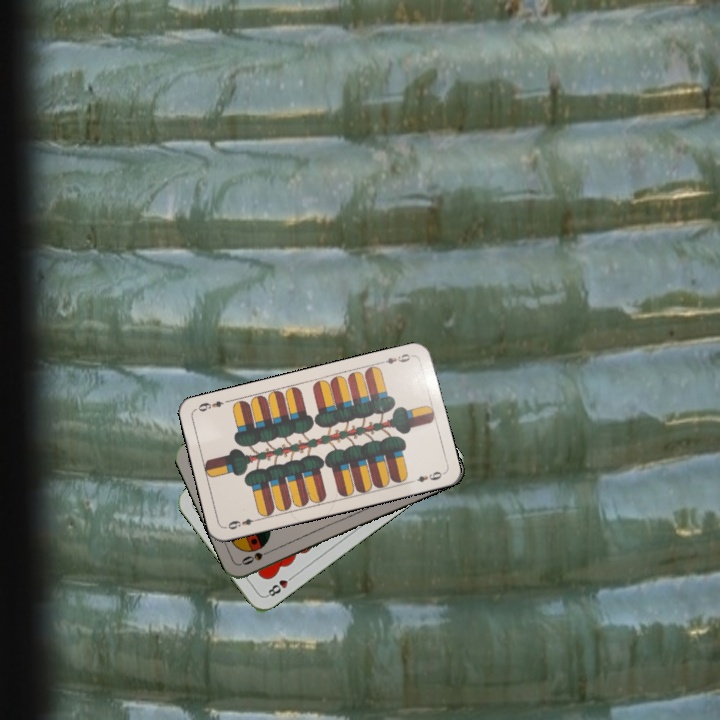E9: (375, 349, 416, 367), (224, 514, 262, 532)
H8: (262, 571, 297, 599)
SO: (237, 545, 276, 568)
